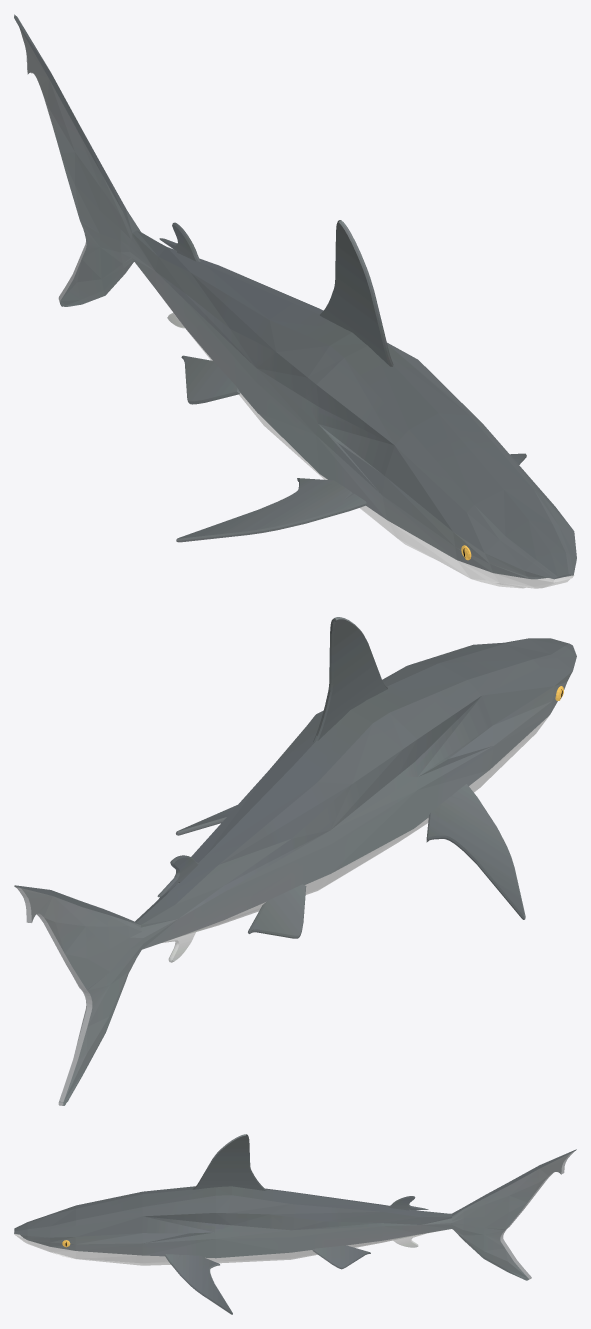
File: shark.glb
The picture shows the model from 3 angles, top to bottom: view 1: azimuth 30°, elevation 25°; view 2: azimuth 150°, elevation 25°; view 3: azimuth 270°, elevation 25°; orthographic projection. The views are drawn at different scales.
Parts seen in each view (by area): view 1: minialeta_2_1_Mat_0, minialeta_2_1_Mat.1_0; view 2: minialeta_2_1_Mat_0, minialeta_2_1_Mat.1_0; view 3: minialeta_2_1_Mat_0, minialeta_2_1_Mat.1_0.
Boxes of the visible parts, box(x1,y1,x2,y2) form: minialeta_2_1_Mat_0: box(14, 14, 576, 588); minialeta_2_1_Mat.1_0: box(159, 220, 526, 560); minialeta_2_1_Mat_0: box(14, 638, 576, 1105); minialeta_2_1_Mat.1_0: box(157, 617, 563, 962); minialeta_2_1_Mat_0: box(14, 1149, 576, 1280); minialeta_2_1_Mat.1_0: box(62, 1134, 428, 1314).
Bounding box in the file's own units: 2.37 × 1.85 × 6.45.
Materials: 2 (2 with a texture image).
